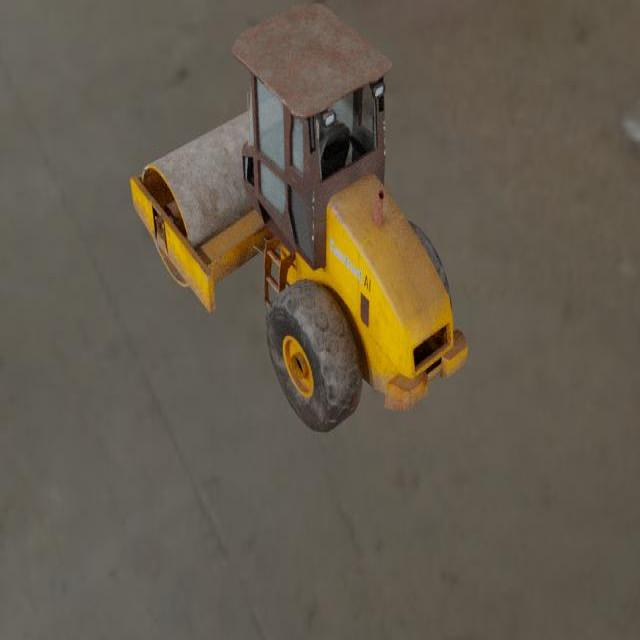Roller: (130, 3, 468, 433)
